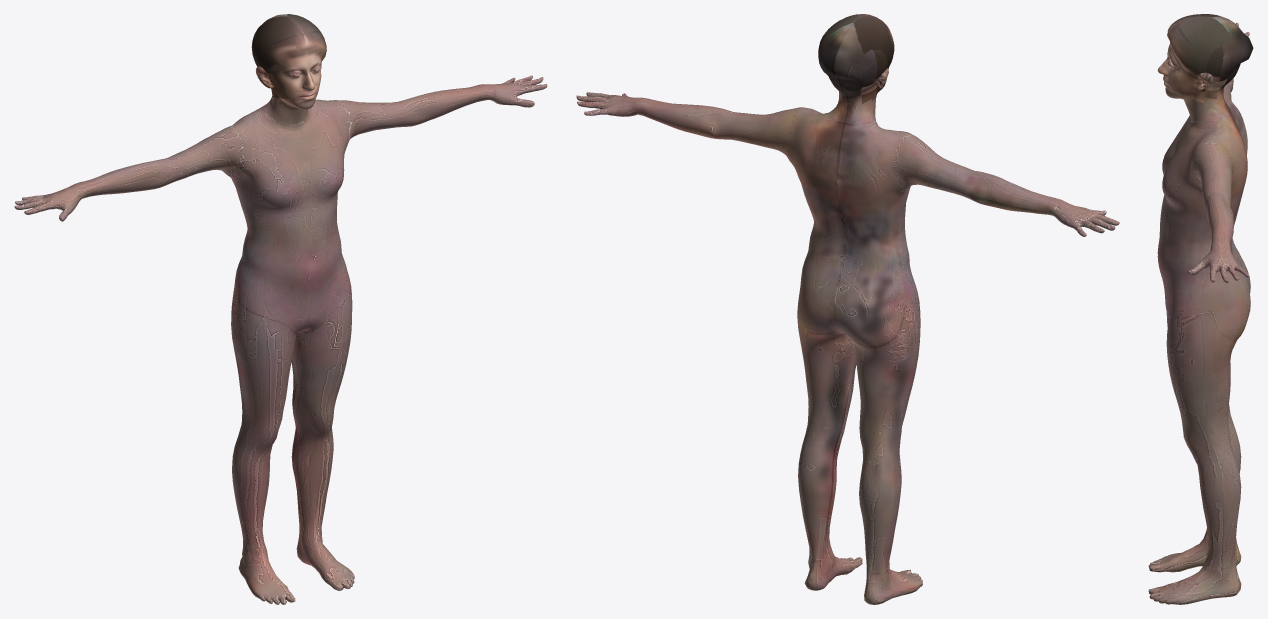
File: kj_char_static.glb
The picture shows the model from 3 angles, left to right: view 1: azimuth 30°, elevation 25°; view 2: azimuth 150°, elevation 25°; view 3: azimuth 270°, elevation 25°; orthographic projection.
Size of the model in its own units: 1.73 by 1.75 by 0.2936.
Materials: 1 (1 with a texture image).
